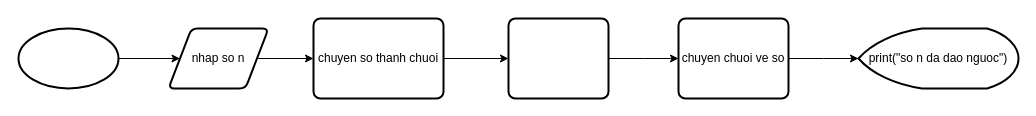
Image size: 1036x116. Some labels were removed from this diagram. The centre of each missing label's shape, as x and y in pixels:
"dao nguoc chuoi" goes at (558,58).
"start" goes at (68,58).
